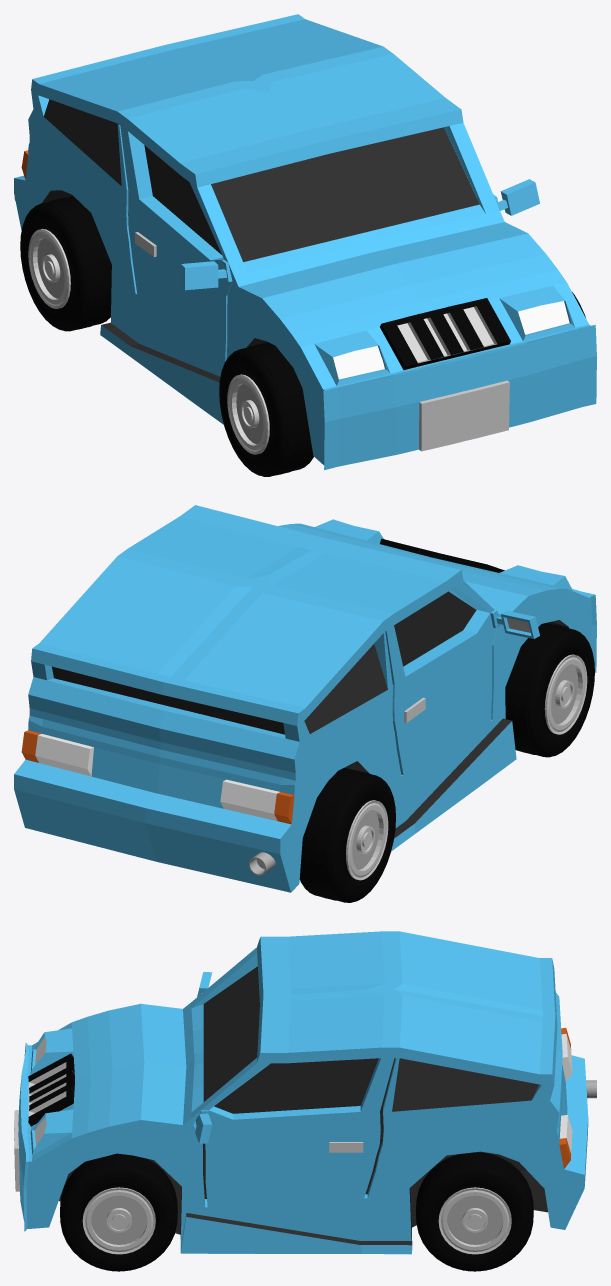
3 renders of one model, top to bottom at view 1: azimuth 30°, elevation 25°; view 2: azimuth 150°, elevation 25°; view 3: azimuth 270°, elevation 25°, orthographic. The views are drawn at different scales.
Visible parts, largest first — view 1: BODY45, WHEEL.004, WHEEL.001; view 2: BODY45, WHEEL.004, WHEEL.001; view 3: BODY45, WHEEL.002, WHEEL.003.
Boxes of the visible parts, x1,y1,x2,y2 form: BODY45: [14, 14, 596, 470]; WHEEL.004: [20, 196, 111, 331]; WHEEL.001: [219, 342, 313, 476]; BODY45: [14, 505, 596, 892]; WHEEL.004: [299, 768, 395, 902]; WHEEL.001: [505, 623, 594, 757]; BODY45: [14, 931, 588, 1254]; WHEEL.002: [416, 1152, 533, 1271]; WHEEL.003: [60, 1153, 177, 1271].
Bounding box in the file's own units: 131 × 85.08 × 208.
